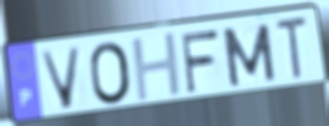F: (178, 27, 221, 96)
H: (129, 29, 186, 105)
M: (219, 21, 279, 90)
O: (87, 39, 135, 107)
T: (274, 15, 311, 83)
V: (37, 45, 84, 113)
